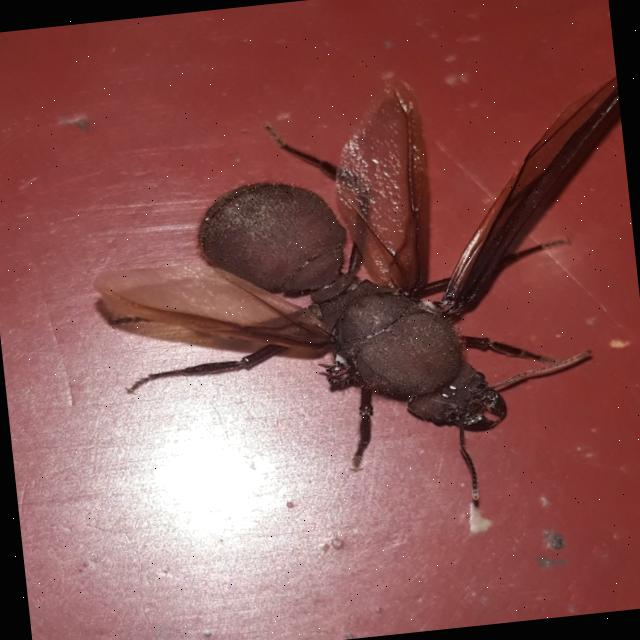Alive-Female-Alate: (71, 39, 640, 547)
